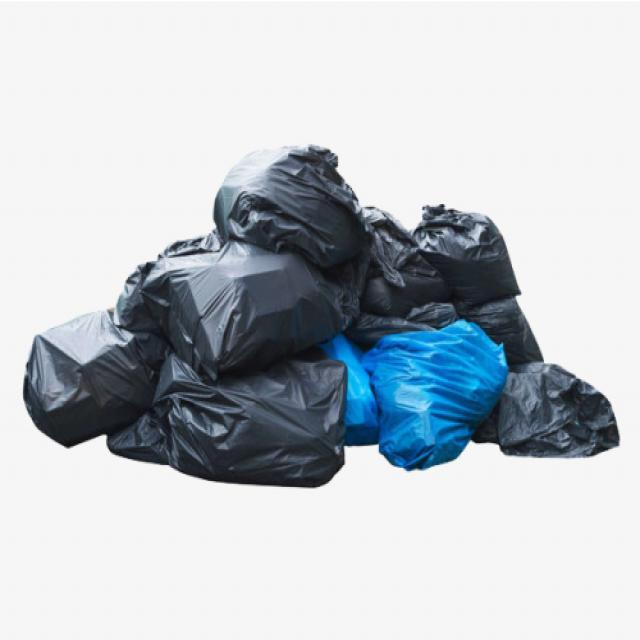garbage: (9, 136, 634, 500)
